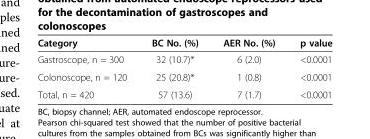table: (36, 36, 331, 99)
table column: (36, 36, 138, 99), (210, 36, 286, 99), (138, 36, 210, 99), (286, 36, 331, 99)
table column header: (36, 36, 331, 50)
table row: (36, 67, 331, 85), (36, 50, 331, 67), (36, 36, 331, 50), (36, 85, 331, 99)
